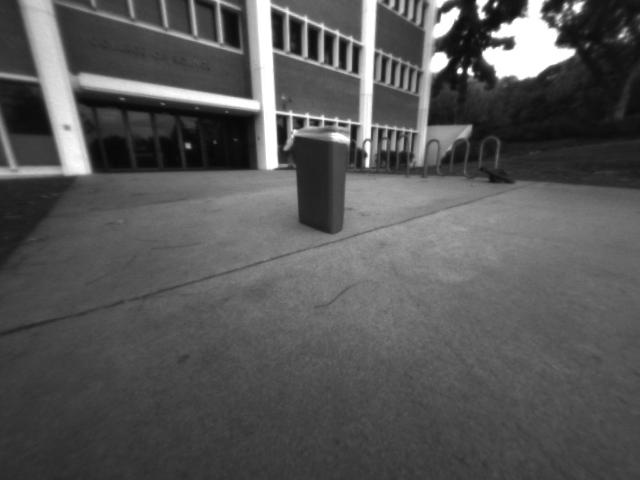trashcan_open: (285, 125, 352, 236)
